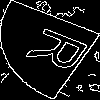R: (25, 25, 100, 79)
